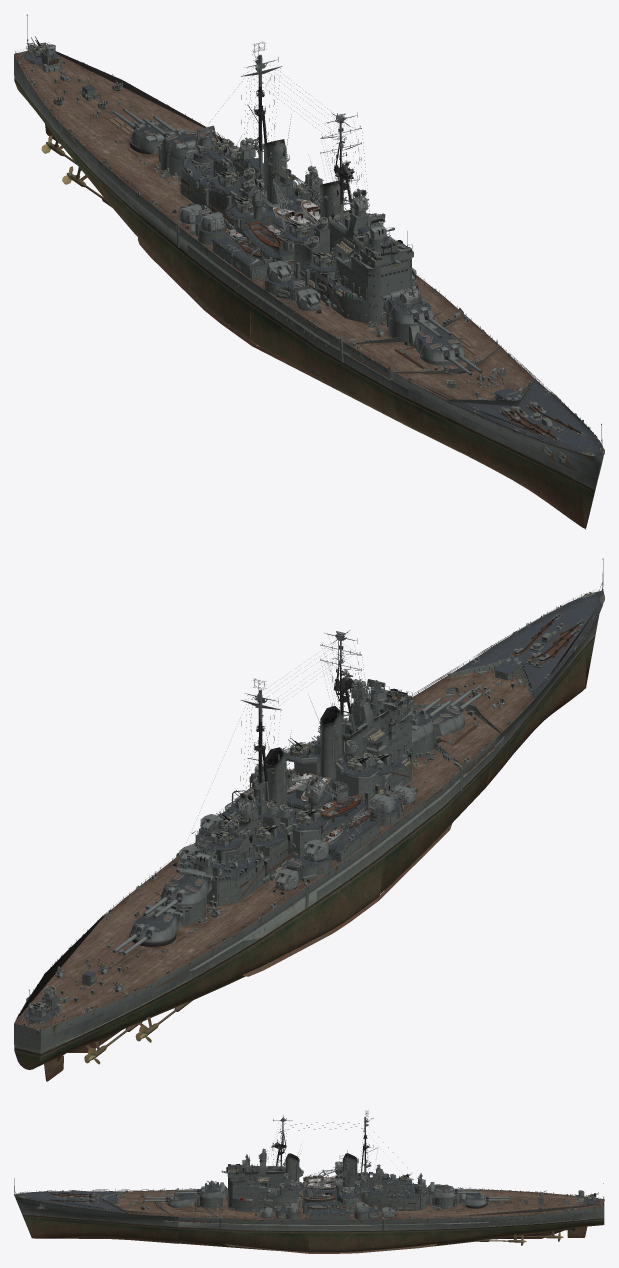
Rendered from vanguard_world_of_warships-maximum-compressed.glb.
3 renders of one model, top to bottom at view 1: azimuth 30°, elevation 25°; view 2: azimuth 150°, elevation 25°; view 3: azimuth 270°, elevation 25°, orthographic. The views are drawn at different scales.
Visible parts, largest first — view 1: Object_86, Object_102, Object_60, Object_109, Object_78, Object_28, Object_45, Object_43, Object_18, Object_46, Object_110, Object_33 (+9 smaller); view 2: Object_60, Object_109, Object_86, Object_45, Object_28, Object_18, Object_78, Object_102, Object_43, Object_110, Object_33, Object_44 (+9 smaller); view 3: Object_86, Object_60, Object_102, Object_109, Object_18, Object_78, Object_28, Object_45, Object_43, Object_46, Object_44, Object_30 (+8 smaller).
Boxes of the visible parts, x1,y1,x2,y2 form: Object_86: (250,211,500,425); Object_102: (388,344,604,529); Object_60: (96,131,320,345); Object_109: (124,50,310,299); Object_78: (263,112,510,381); Object_28: (14,15,225,169); Object_45: (421,363,604,459); Object_43: (143,116,482,375); Object_18: (14,49,111,207); Object_46: (390,343,517,386); Object_110: (97,131,291,266); Object_33: (113,57,346,284); Object_60: (105,783,381,1000); Object_109: (124,689,389,936); Object_86: (285,689,500,900); Object_45: (420,559,604,716); Object_28: (14,909,225,1032); Object_18: (14,938,209,1081); Object_78: (317,630,510,829); Object_102: (412,590,604,787); Object_43: (143,690,482,918); Object_110: (98,790,378,950); Object_33: (113,694,381,937); Object_44: (112,904,183,955); Object_86: (155,1159,308,1253); Object_60: (300,1173,475,1253); Object_102: (14,1190,178,1243); Object_109: (301,1117,459,1230); Object_18: (474,1189,604,1242); Object_78: (155,1115,300,1229); Object_28: (459,1188,604,1220); Object_45: (14,1178,152,1215); Object_43: (144,1182,479,1206); Object_46: (151,1190,178,1216); Object_44: (458,1191,510,1205); Object_30: (462,1187,603,1218).
Size of the model in its own units: 2.21 by 3.92 by 16.57.
75 materials, 74 textured.
